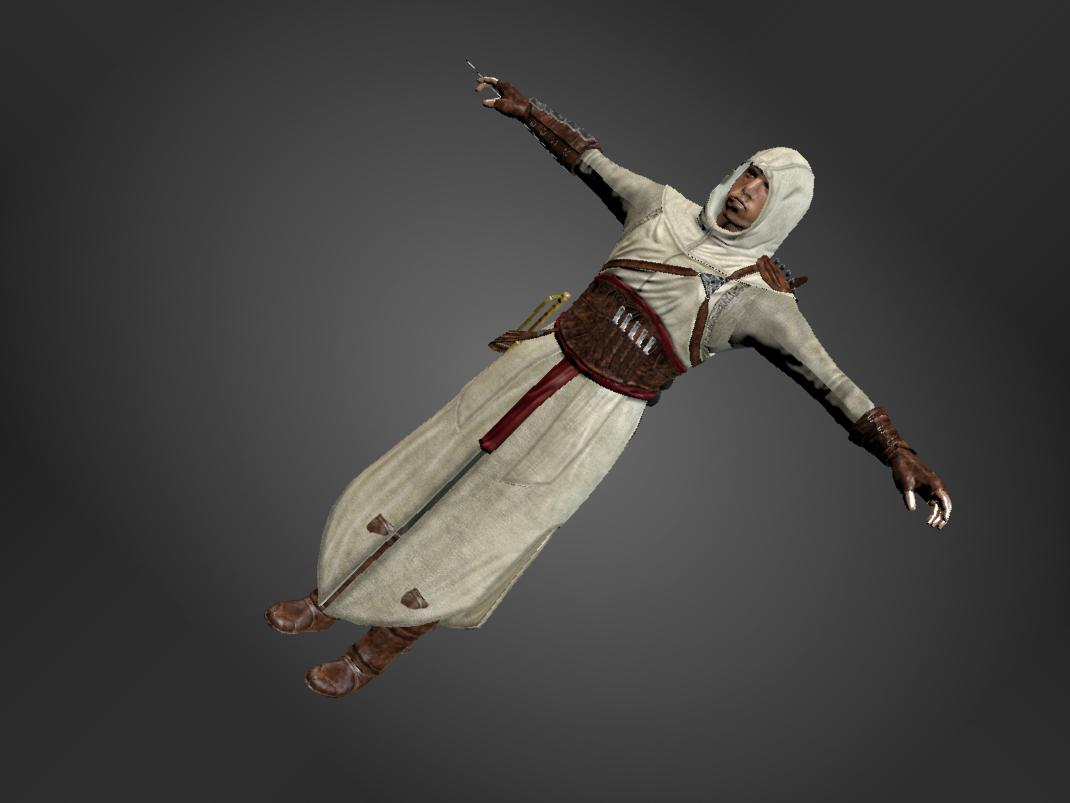clip: (397, 581, 436, 613), (363, 507, 396, 537)
